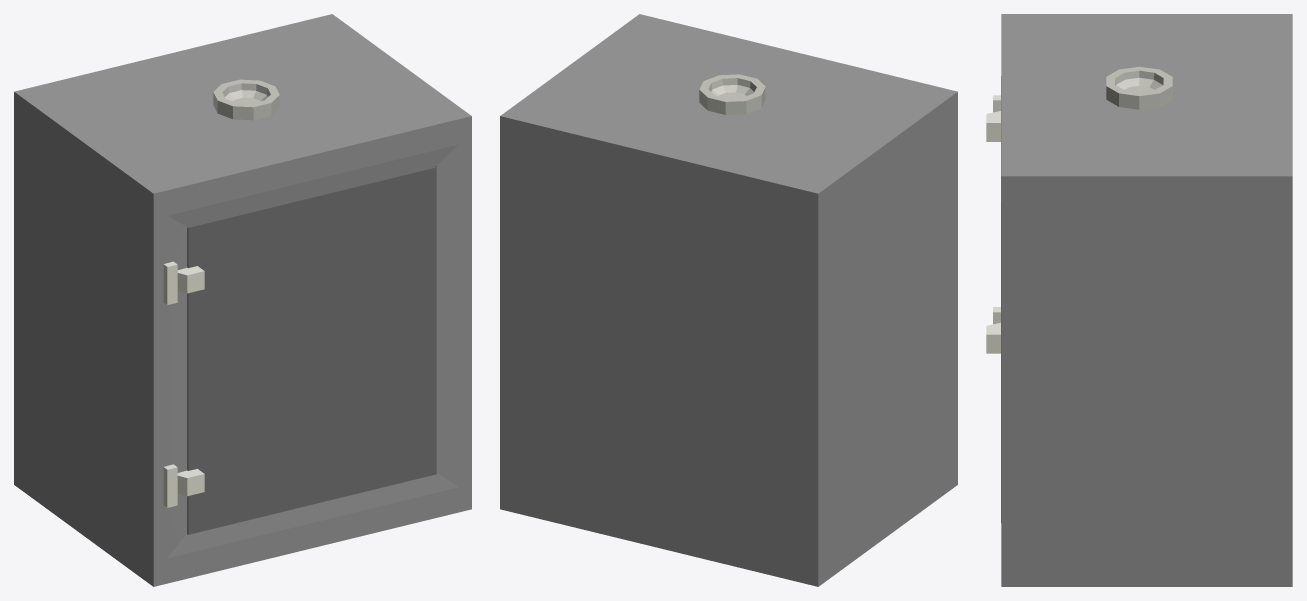
The model's file is SM_BallMachine.fbx.
3 views of the same model, side by side, from view 1: azimuth 30°, elevation 25°; view 2: azimuth 150°, elevation 25°; view 3: azimuth 270°, elevation 25° (orthographic). The views are drawn at different scales.
Parts seen in each view (by area): view 1: machineCase_GEO, machineDoor_GEO; view 2: machineCase_GEO; view 3: machineCase_GEO, machineDoor_GEO.
Boxes of the visible parts, left/top/right/bottom form: machineCase_GEO: left=14, top=14, right=471, bottom=586; machineDoor_GEO: left=177, top=166, right=436, bottom=534; machineCase_GEO: left=500, top=14, right=957, bottom=586; machineCase_GEO: left=993, top=14, right=1292, bottom=586; machineDoor_GEO: left=986, top=76, right=1001, bottom=522.
Size of the model in its own units: 31.55 by 38.48 by 25.17.
